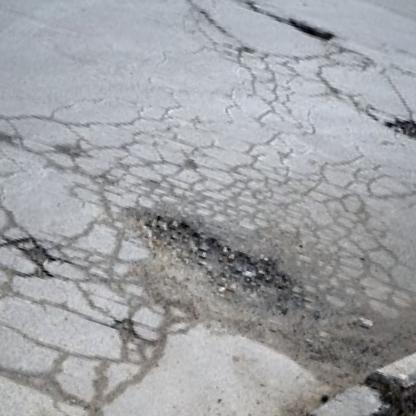pothole: (122, 203, 306, 350), (285, 16, 338, 47), (381, 110, 416, 151)
